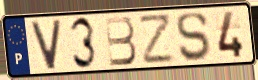3: (67, 16, 101, 71)
4: (216, 9, 245, 60)
B: (103, 15, 139, 68)
S: (175, 11, 211, 63)
V: (29, 18, 64, 72)
Z: (137, 12, 176, 66)
